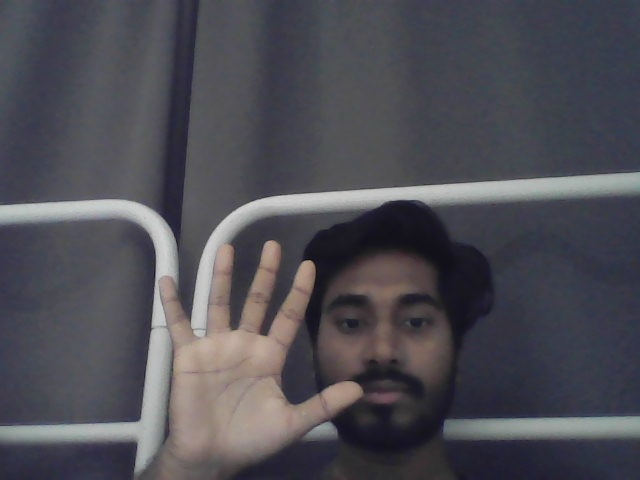hello: (156, 240, 365, 471)
